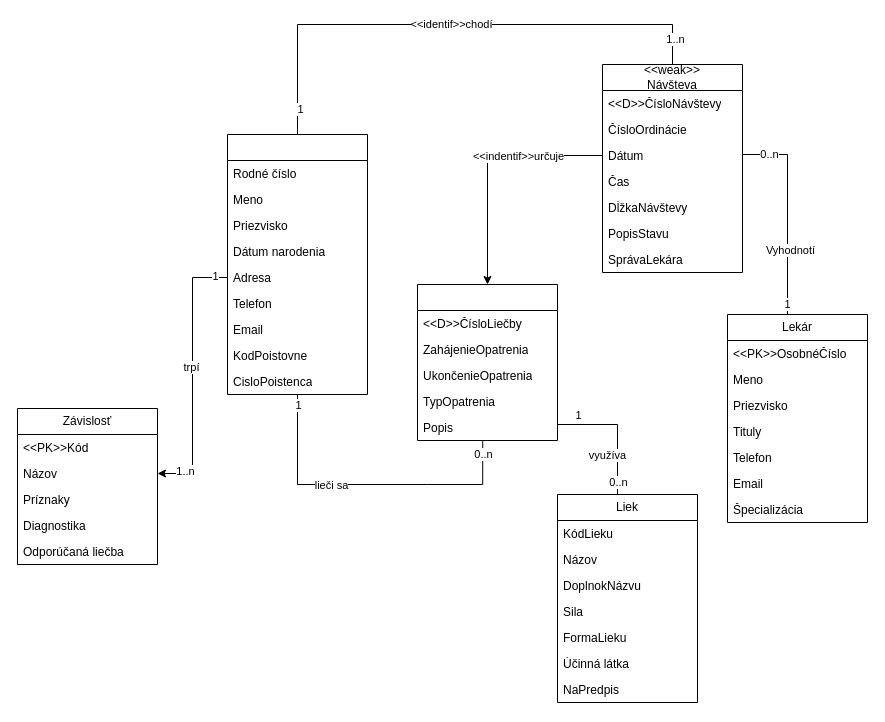
Image size: 885x722. Some labels were removed from this diagram. Here are the shapes that lost their labels. From the top down, the box of each, then its label:
(226, 134, 368, 394): Pacient
(416, 284, 558, 440): <<weak>> LiečebnéOpatrenie
